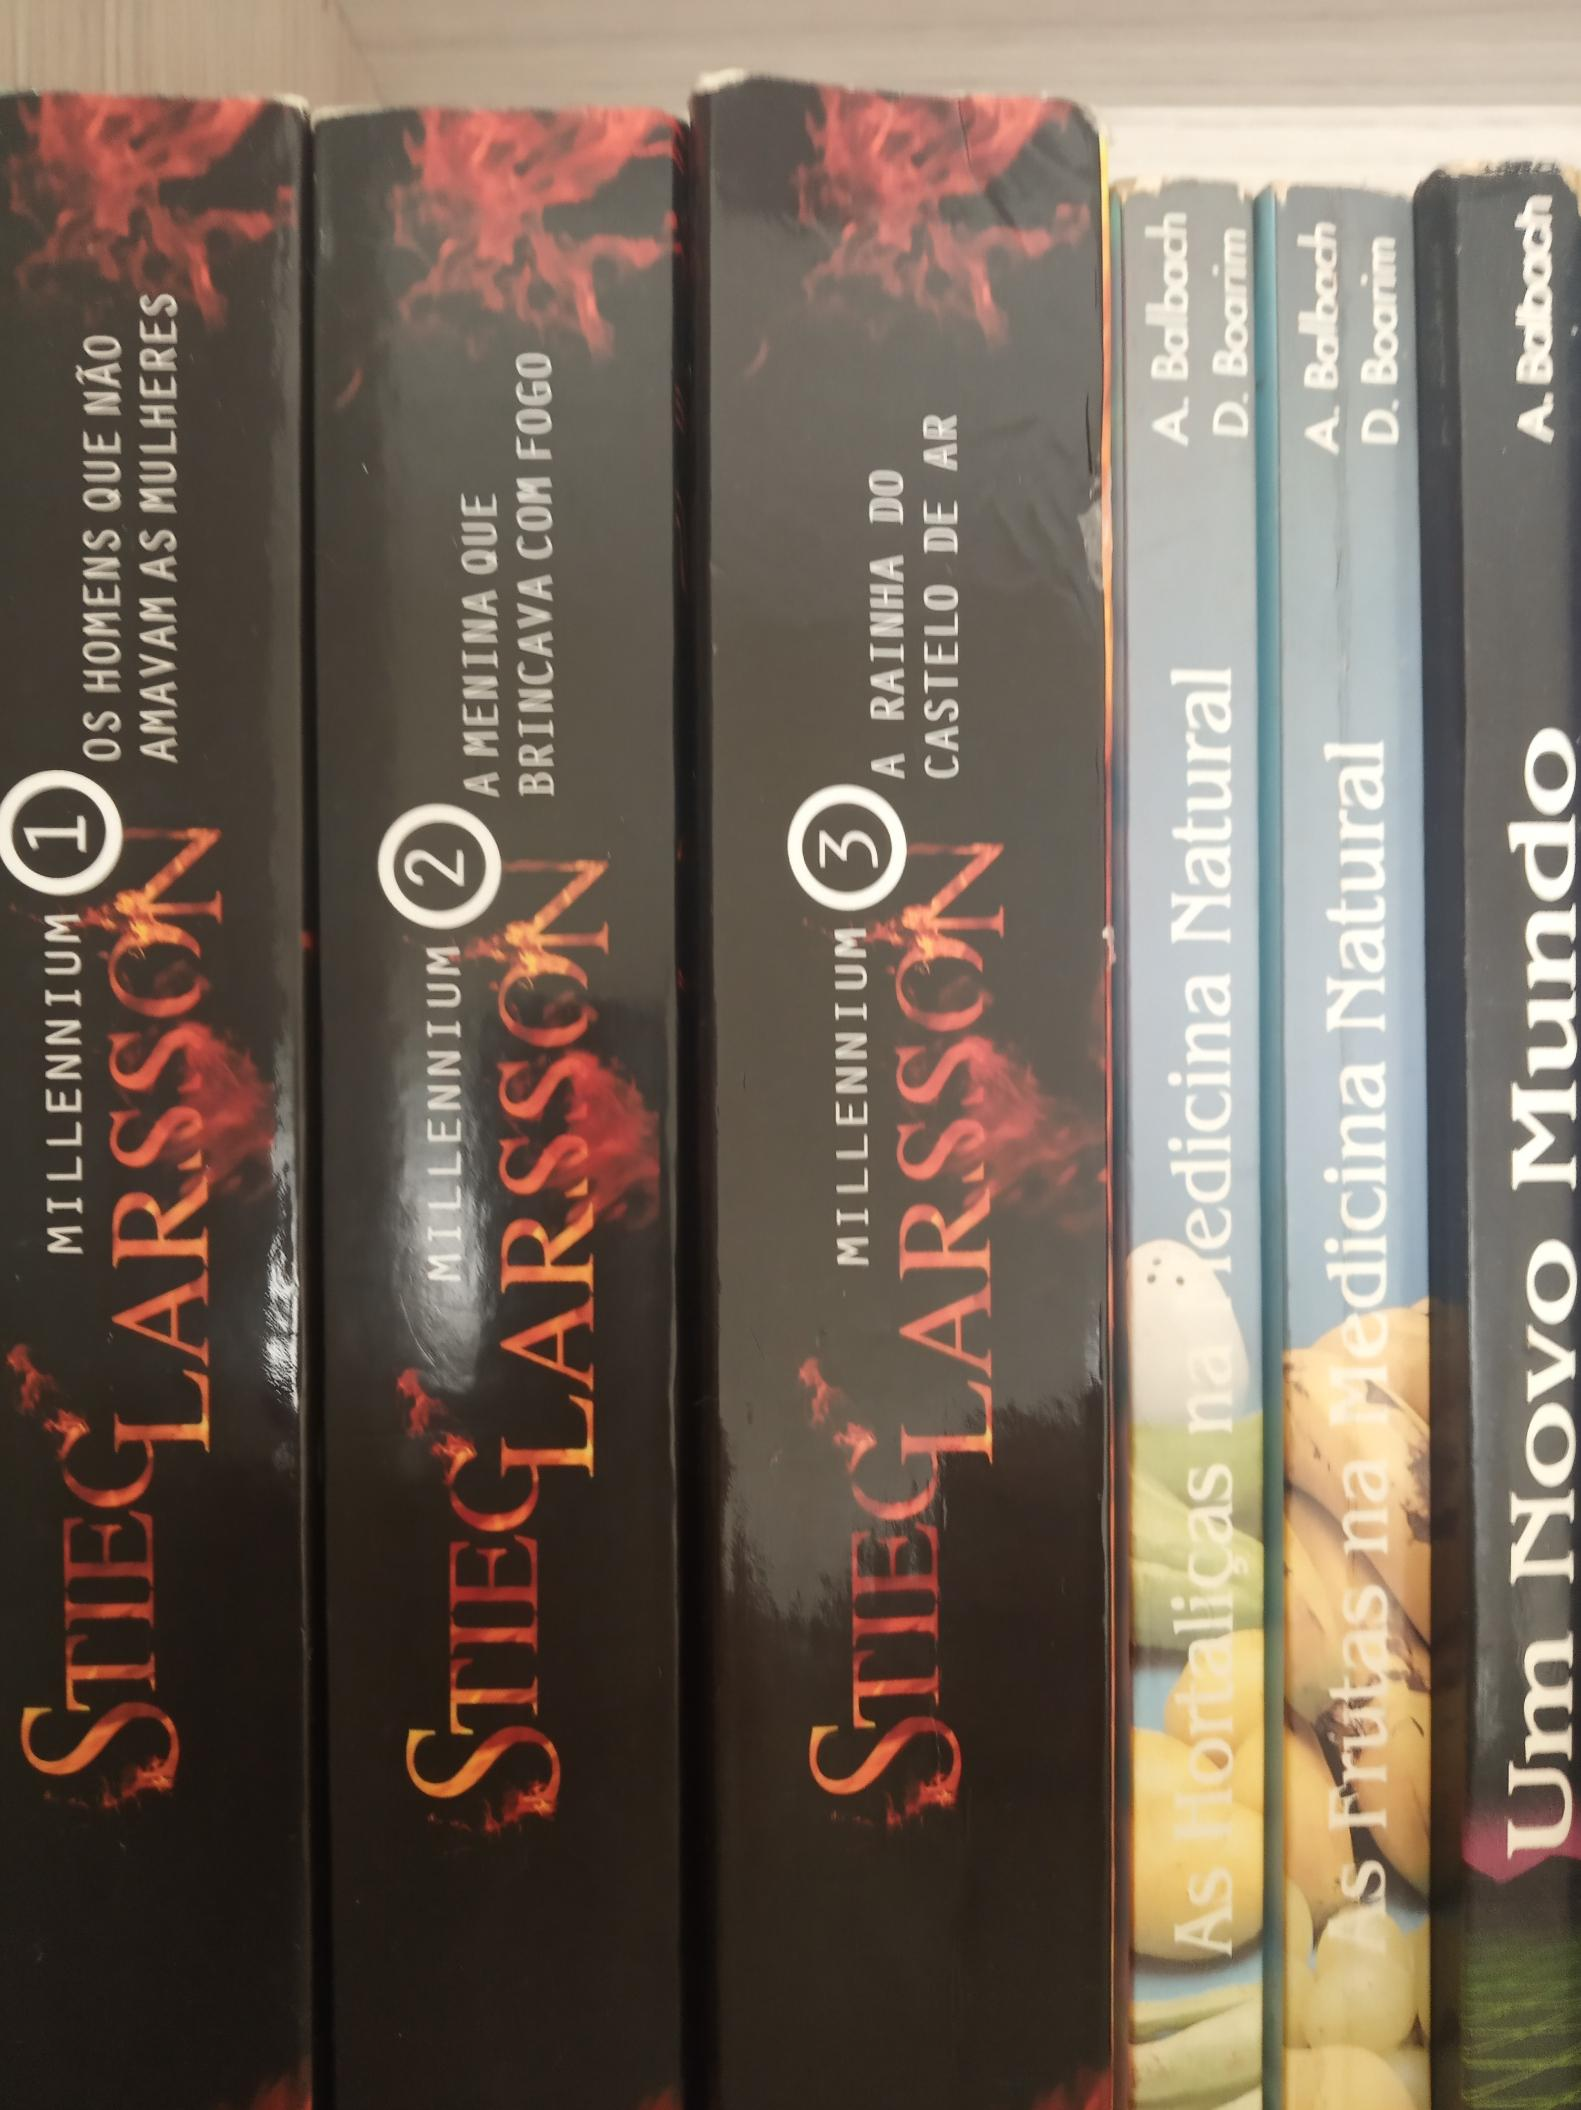book: (712, 111, 1083, 2100), (319, 116, 674, 2095), (2, 103, 296, 2098), (1114, 181, 1255, 2097), (1284, 194, 1425, 2110), (1440, 191, 1581, 2107)
